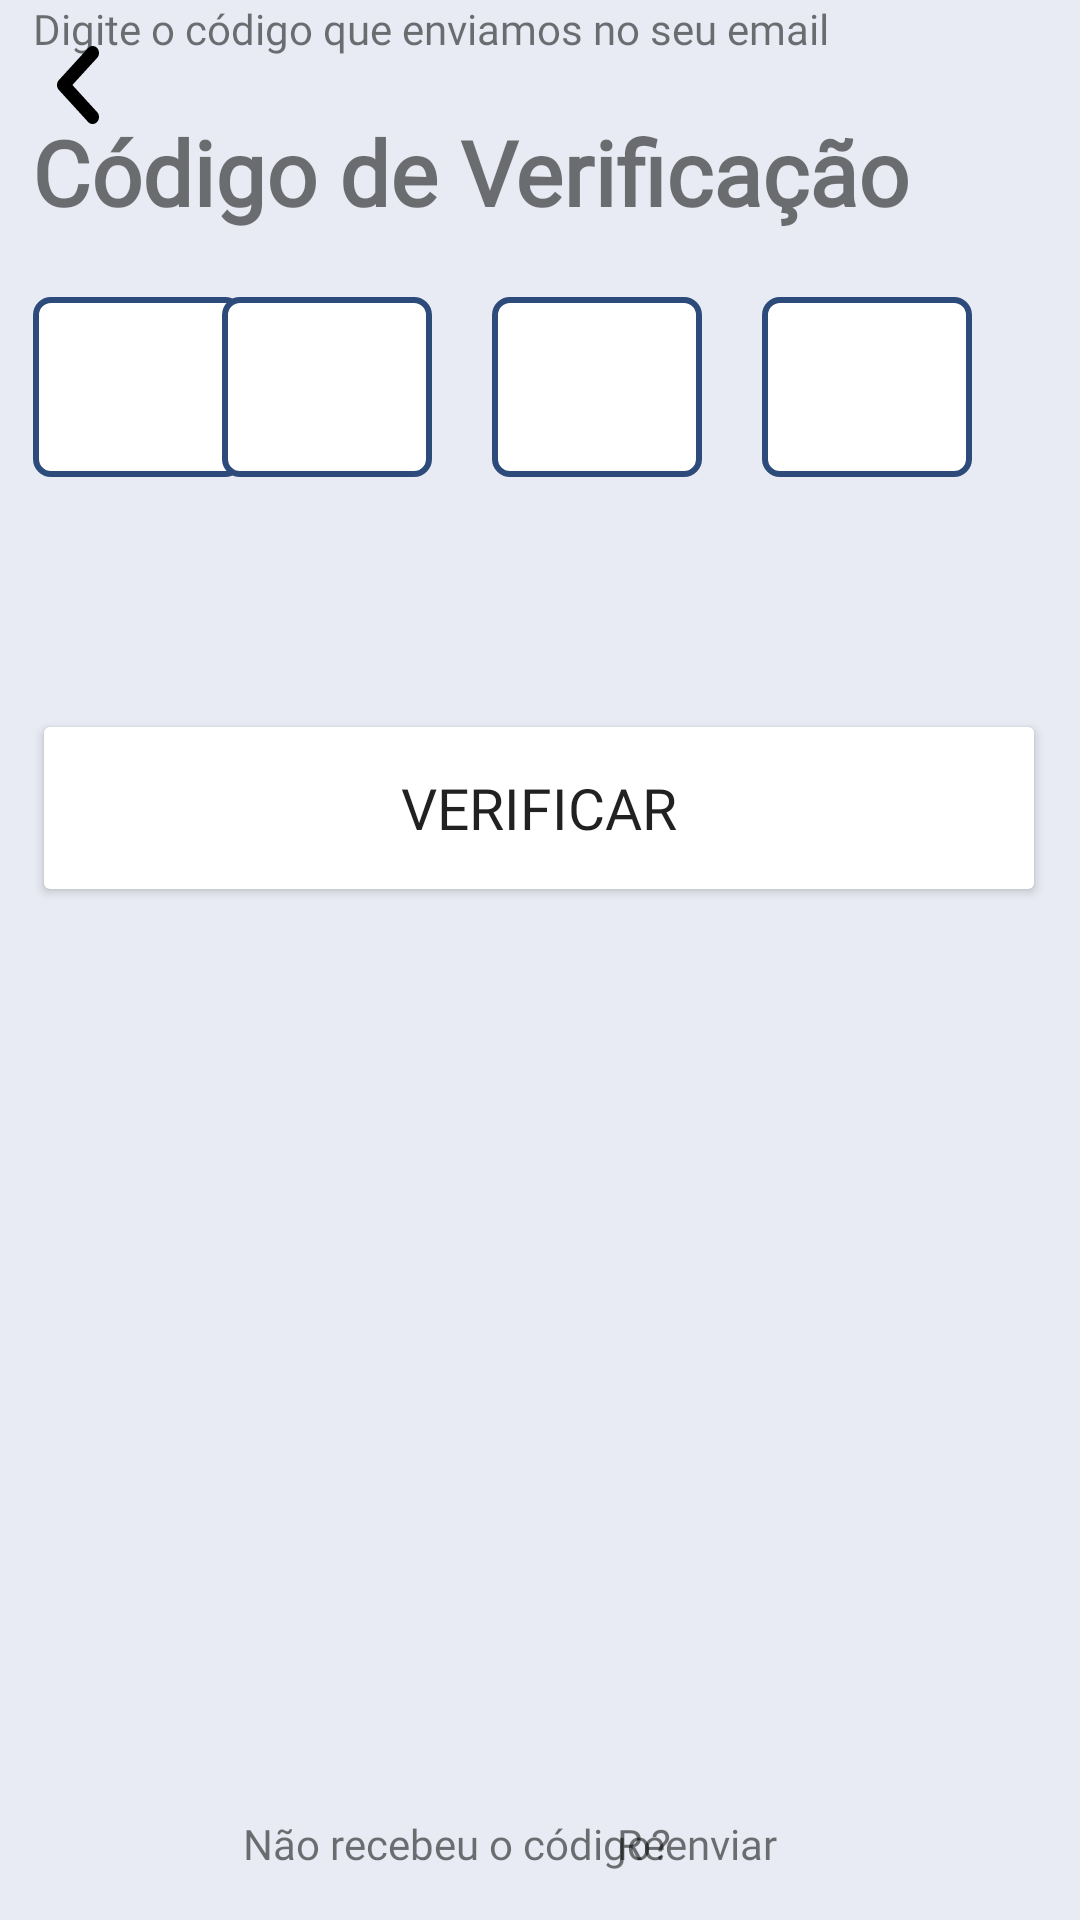

Icon click points for this 1080x1920 phone screenshot, format point (x, y):
seta: point (78, 85)
